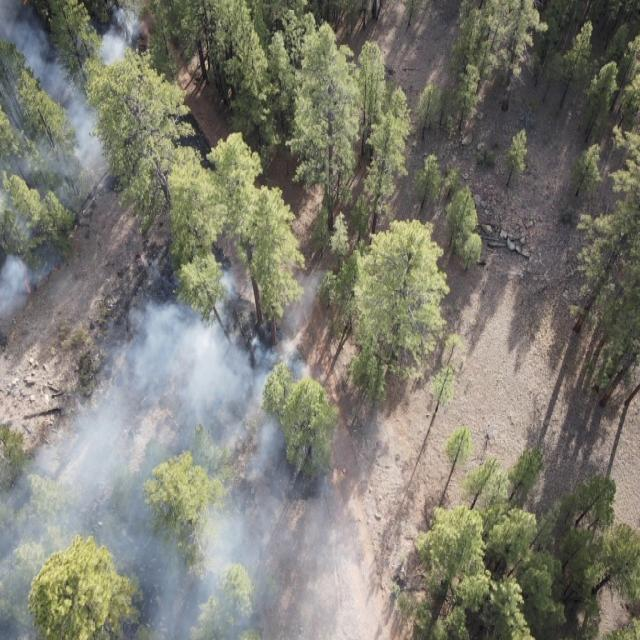fire: (16, 253, 34, 298), (39, 260, 64, 284)
smoke: (0, 396, 373, 640), (108, 264, 353, 460), (0, 0, 156, 242), (0, 240, 68, 342)
